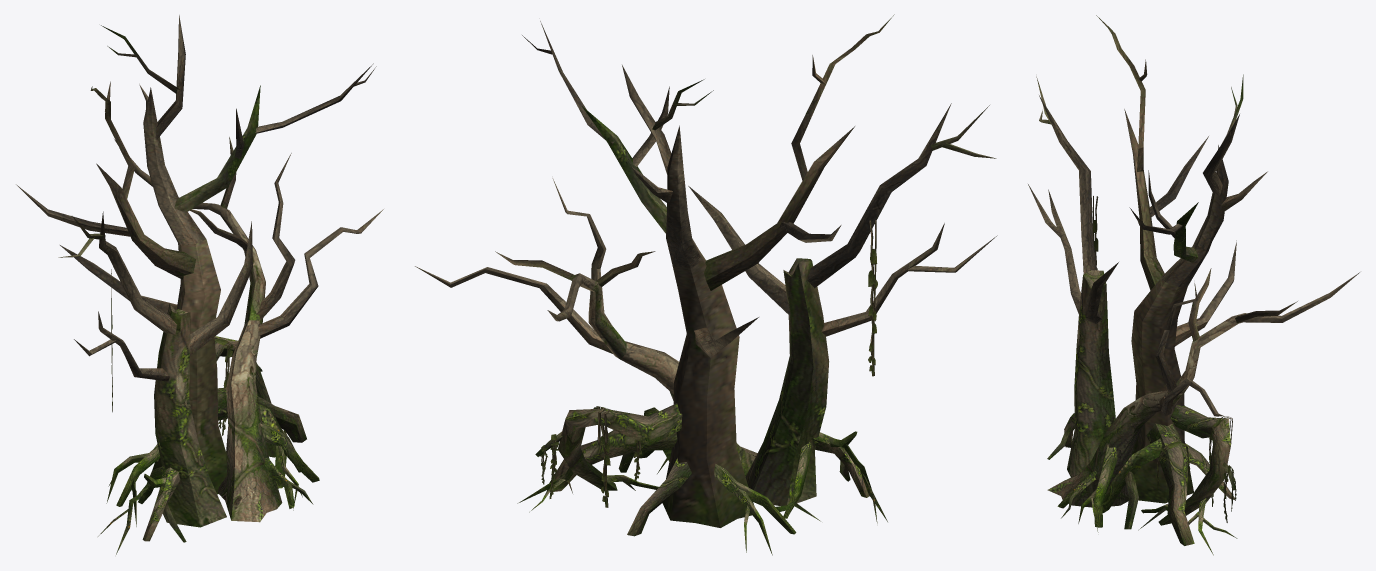
File: 2014_Item_shu_2.FBX
The picture shows the model from 3 angles, left to right: view 1: azimuth 30°, elevation 25°; view 2: azimuth 150°, elevation 25°; view 3: azimuth 270°, elevation 25°; orthographic projection. The views are drawn at different scales.
Visible parts, largest first — view 1: 2014_Item_shu_2; view 2: 2014_Item_shu_2; view 3: 2014_Item_shu_2.
Boxes of the visible parts, bbox=[...] form: 2014_Item_shu_2: bbox=[16, 15, 383, 554]; 2014_Item_shu_2: bbox=[415, 14, 997, 555]; 2014_Item_shu_2: bbox=[1028, 15, 1359, 555].
Bounding box in the file's own units: 2239 × 2349 × 1663.
